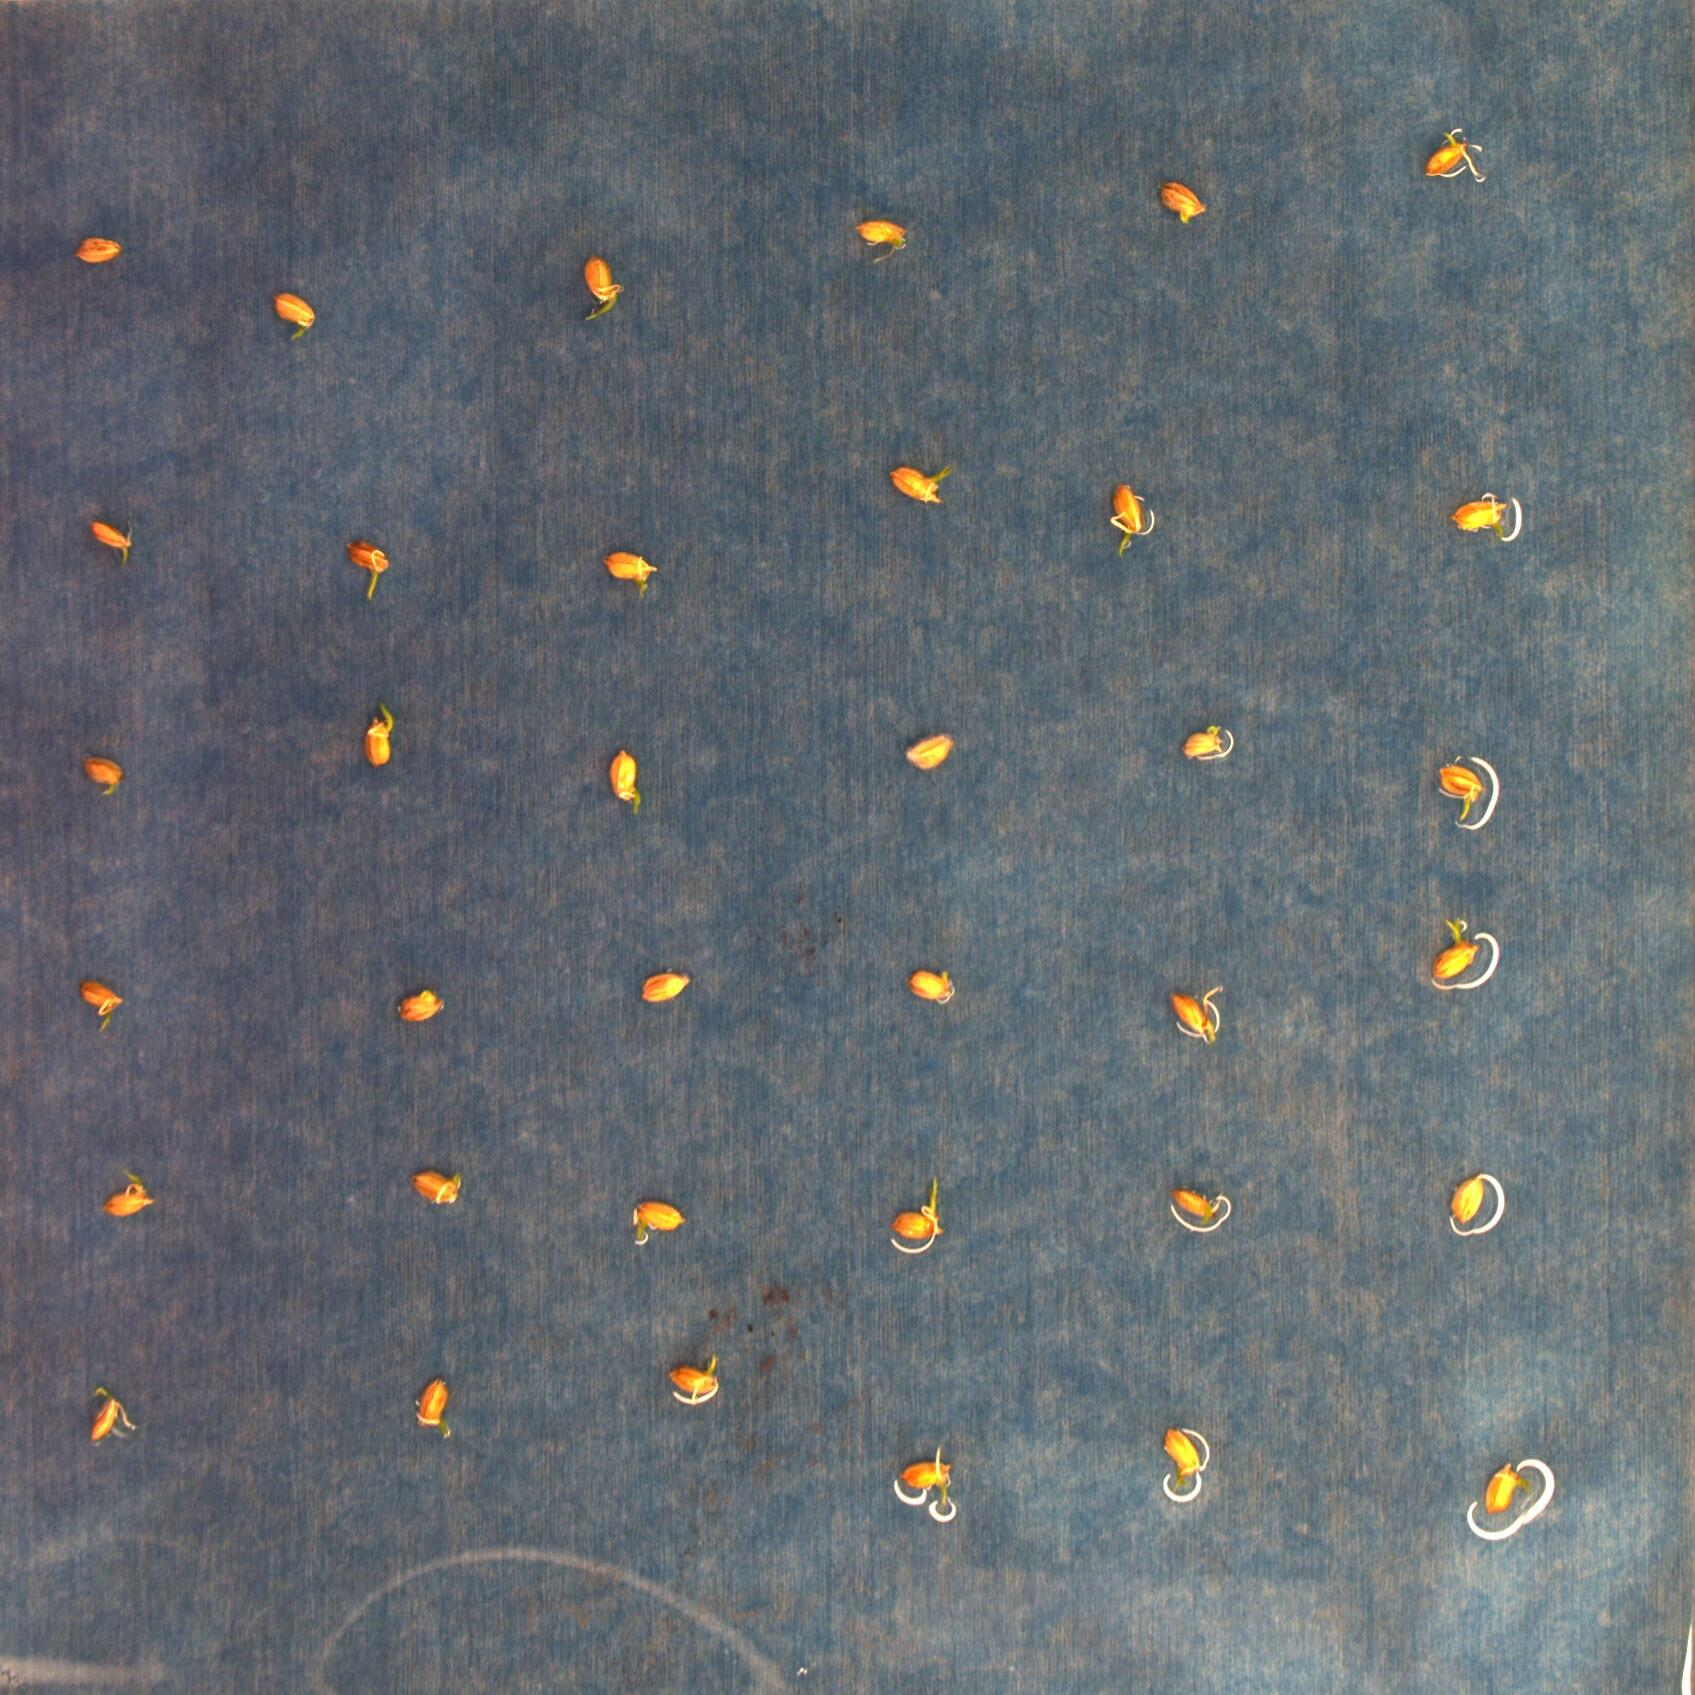not sprout: (1146, 1414, 1217, 1498), (1167, 973, 1236, 1049), (1467, 1450, 1537, 1523), (1448, 487, 1527, 551), (393, 1372, 453, 1450), (598, 748, 655, 826), (658, 1354, 742, 1406), (1433, 1161, 1499, 1225), (882, 458, 964, 508), (626, 1192, 695, 1246), (70, 969, 135, 1023), (267, 284, 331, 338), (857, 210, 914, 267), (897, 723, 962, 771), (78, 750, 141, 798), (633, 961, 698, 1007), (410, 1155, 470, 1205), (911, 951, 964, 1001), (1170, 1161, 1226, 1208), (1158, 180, 1209, 225), (1173, 719, 1229, 757), (397, 976, 442, 1023), (81, 227, 130, 269)
sprout: (85, 1381, 157, 1456), (1110, 477, 1164, 560), (888, 1173, 945, 1253), (1419, 910, 1487, 973), (897, 1445, 959, 1510), (1422, 130, 1495, 185), (351, 708, 411, 771), (571, 258, 627, 324), (602, 543, 657, 610), (1437, 751, 1489, 821), (102, 1161, 160, 1223), (341, 536, 397, 594), (85, 498, 140, 553)
